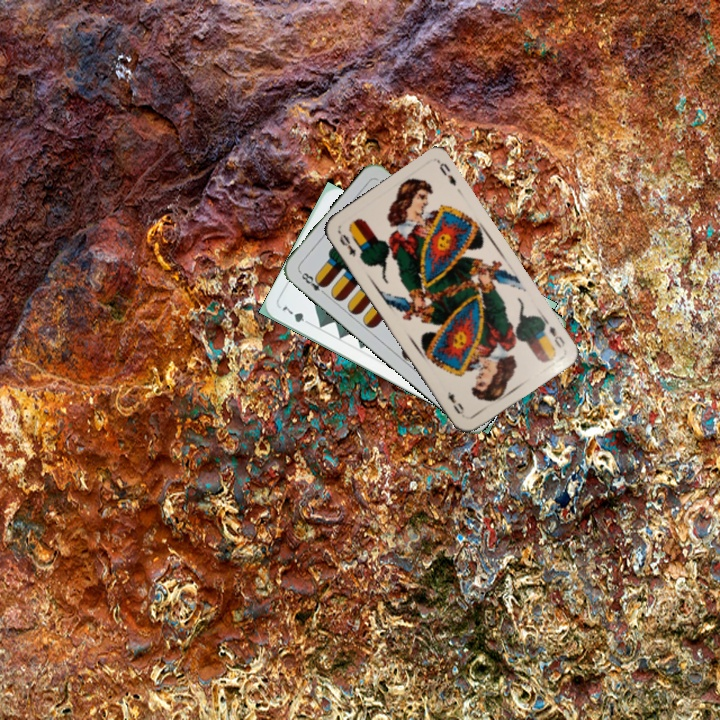E8: (296, 267, 330, 298)
EO: (538, 315, 567, 351), (334, 227, 359, 259)
G7: (278, 302, 314, 328)
